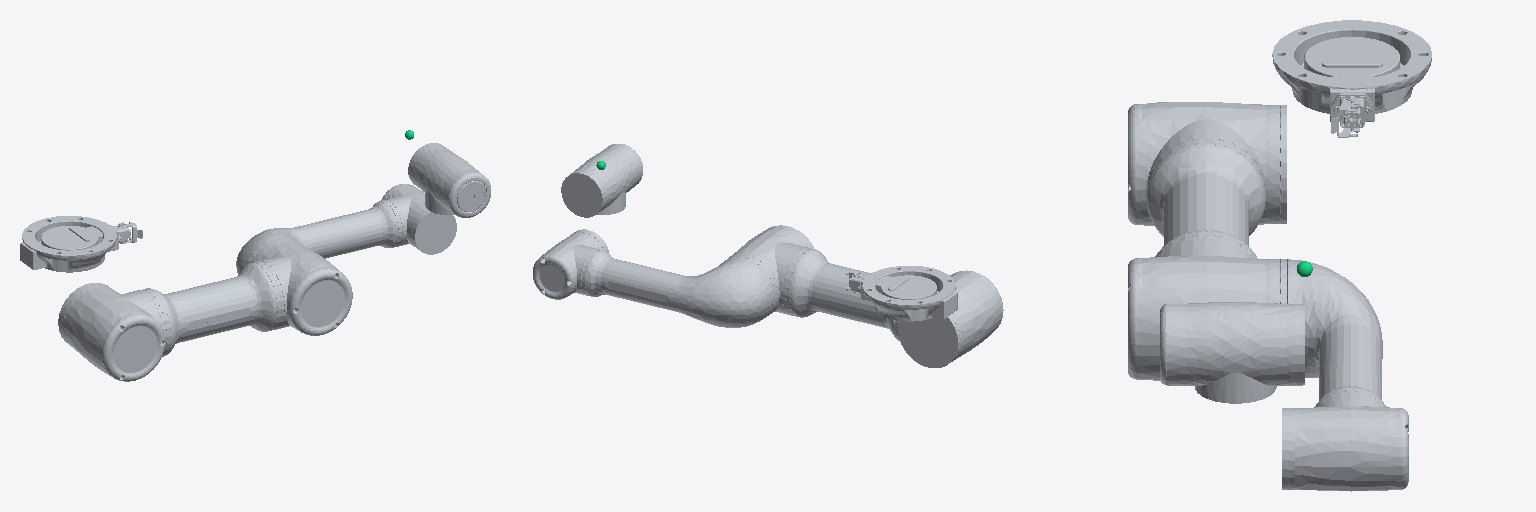
URDF robot description (jaka_zu7_real):
<?xml version="1.0" encoding="utf-8"?>
<robot name="jaka_zu7_real">
  <!-- JAKA zu7 — 真机 CAD（厂商官网 STEP，build_vendor_urdf.py 生成，coord=y_up_mm）。几何为真实外形，运动学（轴/限位）复用程序化 URDF。 -->
  <link name="base_link">
    <visual>
      <origin xyz="0 0 0" rpy="0 0 0"/>
      <geometry><mesh filename="meshes_real/base_link.stl"/></geometry>
      <material name="base_link_m"><color rgba="0.80 0.82 0.85 1"/></material>
    </visual>
    <collision>
      <origin xyz="0 0 0" rpy="0 0 0"/>
      <geometry><mesh filename="meshes_real/base_link.stl"/></geometry>
    </collision>
  </link>
  <link name="link_1">
    <visual>
      <origin xyz="0 0 0" rpy="0 0 0"/>
      <geometry><mesh filename="meshes_real/link_1.stl"/></geometry>
      <material name="link_1_m"><color rgba="0.80 0.82 0.85 1"/></material>
    </visual>
    <collision>
      <origin xyz="0 0 0" rpy="0 0 0"/>
      <geometry><mesh filename="meshes_real/link_1.stl"/></geometry>
    </collision>
  </link>
  <link name="link_2">
    <visual>
      <origin xyz="0 0 0" rpy="0 0 0"/>
      <geometry><mesh filename="meshes_real/link_2.stl"/></geometry>
      <material name="link_2_m"><color rgba="0.80 0.82 0.85 1"/></material>
    </visual>
    <collision>
      <origin xyz="0 0 0" rpy="0 0 0"/>
      <geometry><mesh filename="meshes_real/link_2.stl"/></geometry>
    </collision>
  </link>
  <link name="link_3">
    <visual>
      <origin xyz="0 0 0" rpy="0 0 0"/>
      <geometry><mesh filename="meshes_real/link_3.stl"/></geometry>
      <material name="link_3_m"><color rgba="0.80 0.82 0.85 1"/></material>
    </visual>
    <collision>
      <origin xyz="0 0 0" rpy="0 0 0"/>
      <geometry><mesh filename="meshes_real/link_3.stl"/></geometry>
    </collision>
  </link>
  <link name="link_4">
    <visual>
      <origin xyz="0 0 0" rpy="0 0 0"/>
      <geometry><mesh filename="meshes_real/link_4.stl"/></geometry>
      <material name="link_4_m"><color rgba="0.80 0.82 0.85 1"/></material>
    </visual>
    <collision>
      <origin xyz="0 0 0" rpy="0 0 0"/>
      <geometry><mesh filename="meshes_real/link_4.stl"/></geometry>
    </collision>
  </link>
  <link name="link_5">
    <visual>
      <origin xyz="0 0 0" rpy="0 0 0"/>
      <geometry><mesh filename="meshes_real/link_5.stl"/></geometry>
      <material name="link_5_m"><color rgba="0.80 0.82 0.85 1"/></material>
    </visual>
    <collision>
      <origin xyz="0 0 0" rpy="0 0 0"/>
      <geometry><mesh filename="meshes_real/link_5.stl"/></geometry>
    </collision>
  </link>
  <link name="tool0">
    <visual>
      <origin xyz="0 0 0" rpy="0 0 0"/>
      <geometry><mesh filename="meshes_real/tool0.stl"/></geometry>
      <material name="tool0_m"><color rgba="0.80 0.82 0.85 1"/></material>
    </visual>
    <collision>
      <origin xyz="0 0 0" rpy="0 0 0"/>
      <geometry><mesh filename="meshes_real/tool0.stl"/></geometry>
    </collision>
  </link>
  <link name="tcp">
    <visual>
      <origin xyz="0 0 0" rpy="0 0 0"/>
      <geometry><sphere radius="0.008"/></geometry>
      <material name="tcp_m"><color rgba="0.15 0.85 0.55 1"/></material>
    </visual>
  </link>
  <joint name="joint_1" type="revolute">
    <parent link="base_link"/>
    <child link="link_1"/>
    <origin xyz="0.0584219 -0.00570737 -0.04" rpy="0 0 0"/>
    <axis xyz="0 0 1"/>
    <limit lower="-6.28318" upper="6.28318" effort="82" velocity="3.14159"/>
  </joint>
  <joint name="joint_2" type="revolute">
    <parent link="link_1"/>
    <child link="link_2"/>
    <origin xyz="-0.0527145 -0.0582926 -0.138572" rpy="0 0 0"/>
    <axis xyz="0 1 0"/>
    <limit lower="-1.48353" upper="4.62512" effort="82" velocity="3.14159"/>
  </joint>
  <joint name="joint_3" type="revolute">
    <parent link="link_2"/>
    <child link="link_3"/>
    <origin xyz="0.29529 0.000501167 0.0584219" rpy="0 0 0"/>
    <axis xyz="0 1 0"/>
    <limit lower="-3.05433" upper="3.05433" effort="82" velocity="3.14159"/>
  </joint>
  <joint name="joint_4" type="revolute">
    <parent link="link_3"/>
    <child link="link_4"/>
    <origin xyz="0.321999 -0.00601367 2.72421e-14" rpy="0 0 0"/>
    <axis xyz="0 0 1"/>
    <limit lower="-1.48353" upper="4.62512" effort="82" velocity="3.14159"/>
  </joint>
  <joint name="joint_5" type="revolute">
    <parent link="link_4"/>
    <child link="link_5"/>
    <origin xyz="0.0261385 -0.0833682 0.068" rpy="0 0 0"/>
    <axis xyz="0 1 0"/>
    <limit lower="-6.28318" upper="6.28318" effort="82" velocity="3.14159"/>
  </joint>
  <joint name="joint_6" type="revolute">
    <parent link="link_5"/>
    <child link="tool0"/>
    <origin xyz="-0.0230556 0.105868 0.0609987" rpy="0 0 0"/>
    <axis xyz="0 0 1"/>
    <limit lower="-6.28318" upper="6.28318" effort="82" velocity="3.14159"/>
  </joint>
  <joint name="tcp_joint" type="fixed">
    <parent link="tool0"/>
    <child link="tcp"/>
    <origin xyz="0 0 0.04914" rpy="0 0 0"/>
  </joint>
</robot>

--- Facts derived from the render (not from the file) ---
3 views of the same robot in one strip: view 1: azimuth 30°, elevation 25°; view 2: azimuth 150°, elevation 25°; view 3: azimuth 270°, elevation 25° (orthographic).
Robot: jaka_zu7_real — 8 links, 7 joints (6 revolute, 1 fixed); root link base_link; default pose: all joints at 0.
Links seen in each view (by area): view 1: link_2, link_3, base_link, link_5; view 2: link_2, link_3, base_link, link_5; view 3: link_2, link_3, link_5, base_link.
Boxes of the visible links, x1,y1,x2,y2 form: link_2: (58,237,352,381); link_3: (236,184,456,274); base_link: (20,216,142,272); link_5: (408,143,490,217); link_2: (725,225,1003,367); link_3: (533,229,772,327); base_link: (846,266,957,321); link_5: (561,144,642,217); link_2: (1128,102,1286,380); link_3: (1282,259,1408,491); link_5: (1160,302,1304,403); base_link: (1272,20,1431,137).
Bounding box of the posed robot: 0.7877 × 0.3006 × 0.2485 m (x, y, z).
4 mesh visuals loaded from 7 distinct referenced files (4 binary STL); not drawn: 3 (reference not matched to a file when rendering).
